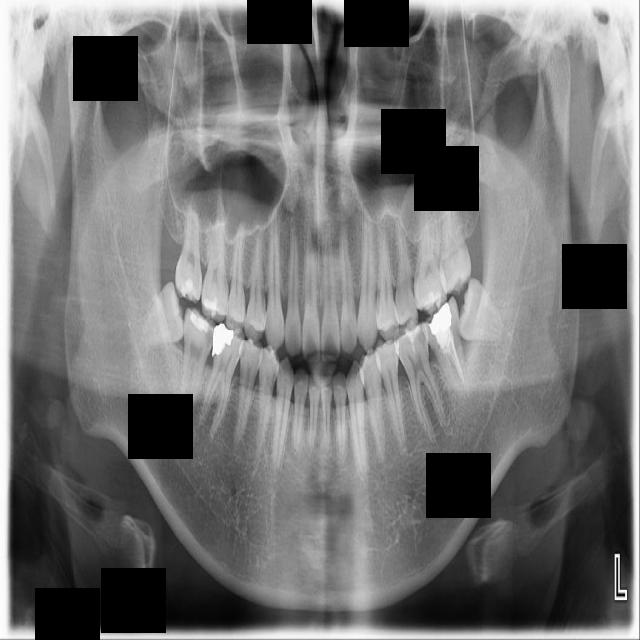52: (413, 295, 477, 357), (202, 319, 249, 373), (392, 322, 439, 373), (410, 261, 450, 318), (169, 258, 207, 305), (181, 306, 216, 357), (199, 274, 232, 325), (200, 325, 219, 353), (416, 326, 427, 352), (267, 369, 277, 395)
73: (433, 334, 470, 395), (618, 604, 622, 610)
BioHorizons Implant: (435, 184, 473, 296)
Biomet 3i Implant: (455, 276, 512, 345)
Blue Sky Bio Implant: (418, 296, 471, 403)
Caries: (174, 183, 206, 304)
Implant: (177, 306, 218, 413)
Keystone Dental Implant: (130, 279, 188, 349)
